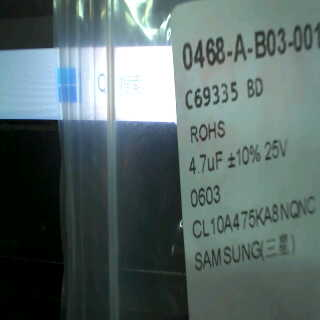4.7uF: (185, 146, 227, 179)
